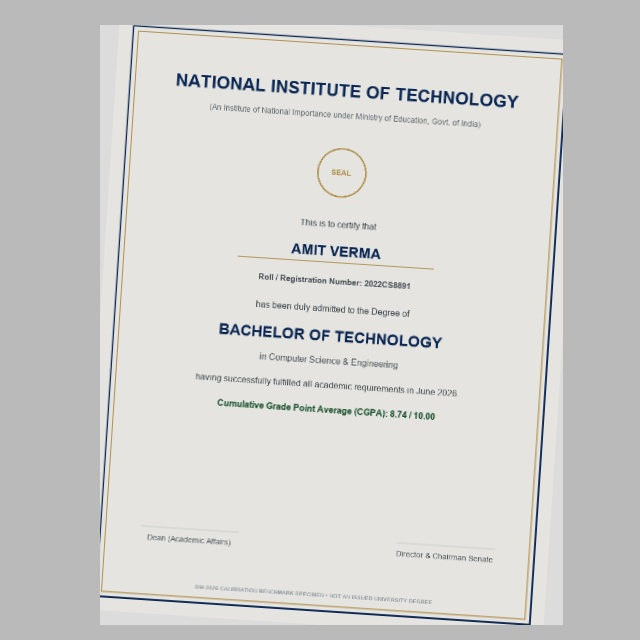marksheet: (100, 25, 563, 625)
